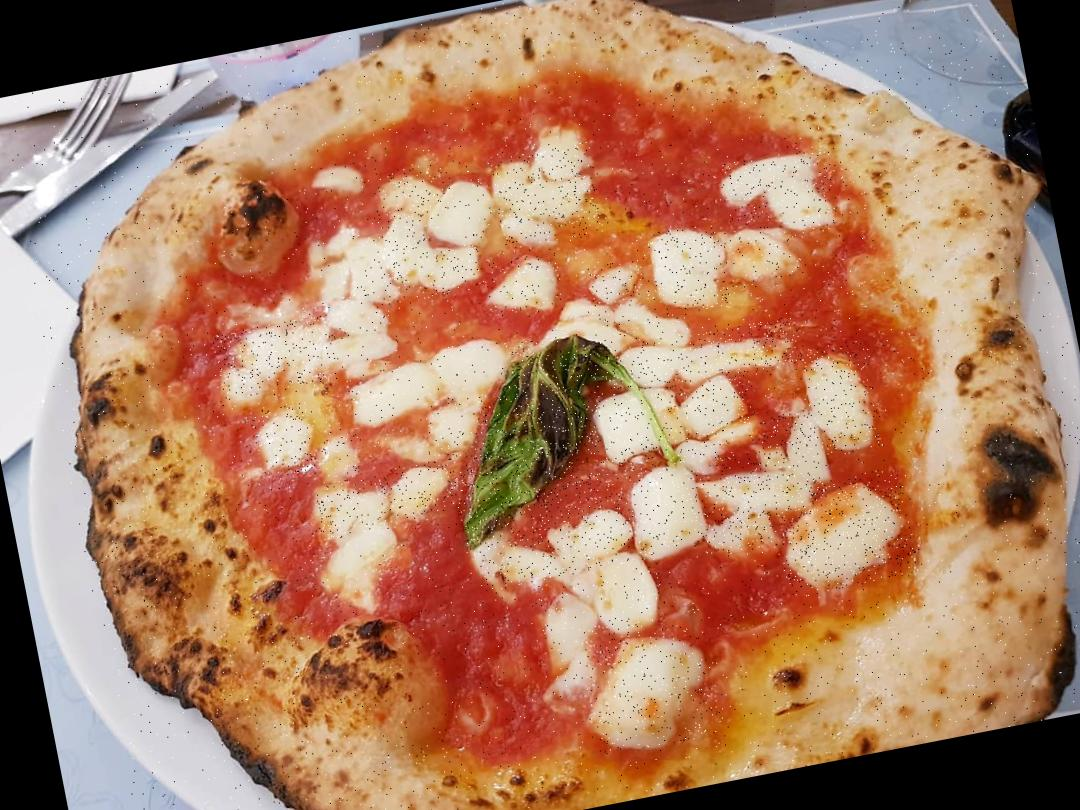Basil: (428, 316, 698, 557)
Cheese: (574, 619, 724, 758), (768, 466, 920, 600), (691, 407, 831, 522), (619, 316, 804, 396), (474, 506, 642, 592), (347, 340, 516, 424), (718, 144, 843, 248), (490, 142, 604, 250), (560, 538, 670, 640), (798, 338, 884, 460), (212, 315, 333, 401), (529, 580, 613, 698), (672, 372, 766, 474), (622, 455, 718, 554), (597, 383, 698, 471), (647, 221, 733, 317), (321, 522, 405, 608), (612, 284, 700, 360), (419, 171, 499, 251), (718, 218, 804, 291), (669, 370, 752, 442), (311, 474, 398, 542), (526, 292, 624, 352), (484, 250, 567, 320), (376, 201, 439, 292), (249, 400, 320, 478), (340, 233, 402, 314), (318, 324, 406, 380), (702, 497, 780, 560), (412, 236, 488, 300), (388, 458, 460, 521), (312, 289, 394, 342), (377, 160, 450, 218), (424, 392, 488, 456), (586, 256, 652, 308), (314, 432, 366, 489)
Pizza: (0, 0, 1080, 810)
